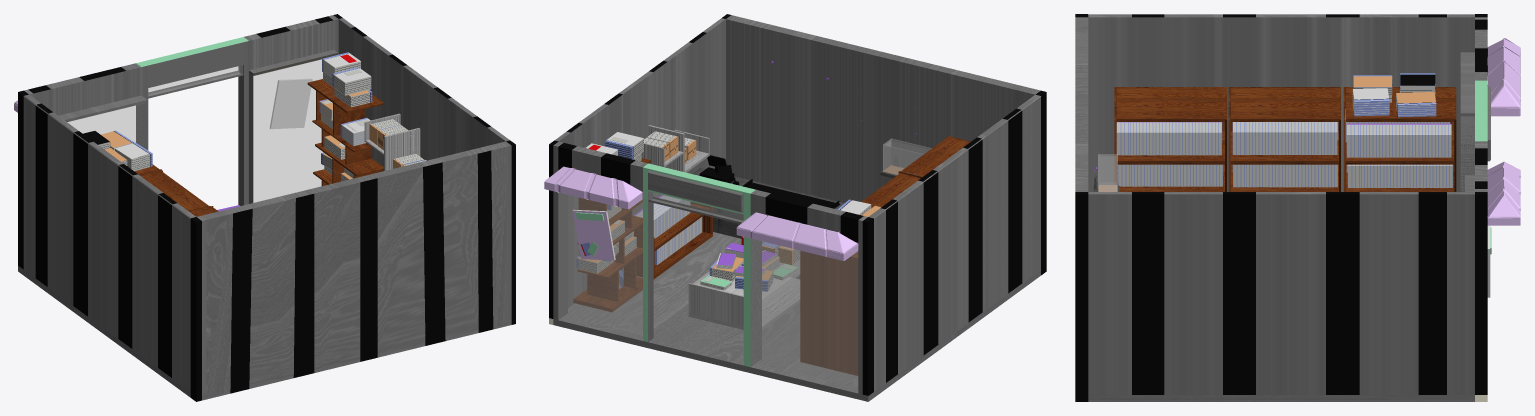
File: moldel3.glb
The picture shows the model from 3 angles, left to right: view 1: azimuth 30°, elevation 25°; view 2: azimuth 150°, elevation 25°; view 3: azimuth 270°, elevation 25°; orthographic projection. The views are drawn at different scales.
Parts seen in each view (by area): view 1: Cube; view 2: Cube; view 3: Cube.
Part boxes in pixels (x1,y1,x2,y2): Cube: (14,14,515,401); Cube: (544,14,1046,401); Cube: (1075,14,1520,401).
Bounding box in the file's own units: 23.01 × 12.36 × 24.01.
Materials: 19 (4 with a texture image).
